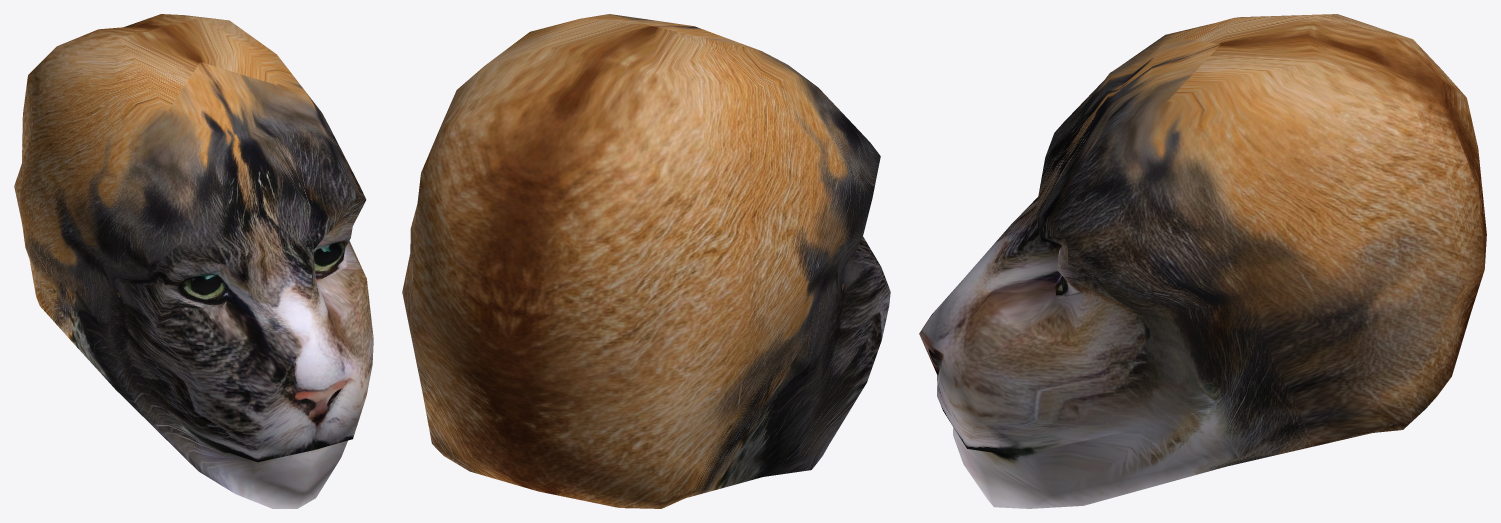
The model's file is b_n_khajiit_m_head_04.glb.
The picture shows the model from 3 angles, left to right: view 1: azimuth 30°, elevation 25°; view 2: azimuth 150°, elevation 25°; view 3: azimuth 270°, elevation 25°; orthographic projection. The views are drawn at different scales.
Visible parts, largest first — view 1: Tri B_N_Khajiit_M_Head_04; view 2: Tri B_N_Khajiit_M_Head_04; view 3: Tri B_N_Khajiit_M_Head_04.
Boxes of the visible parts, x1=… form: Tri B_N_Khajiit_M_Head_04: x1=14, y1=14, x2=373, y2=508; Tri B_N_Khajiit_M_Head_04: x1=402, y1=14, x2=890, y2=508; Tri B_N_Khajiit_M_Head_04: x1=919, y1=14, x2=1486, y2=508.
Bounding box in the file's own units: 0.0983 × 0.1421 × 0.1582.
1 material, 1 textured.
